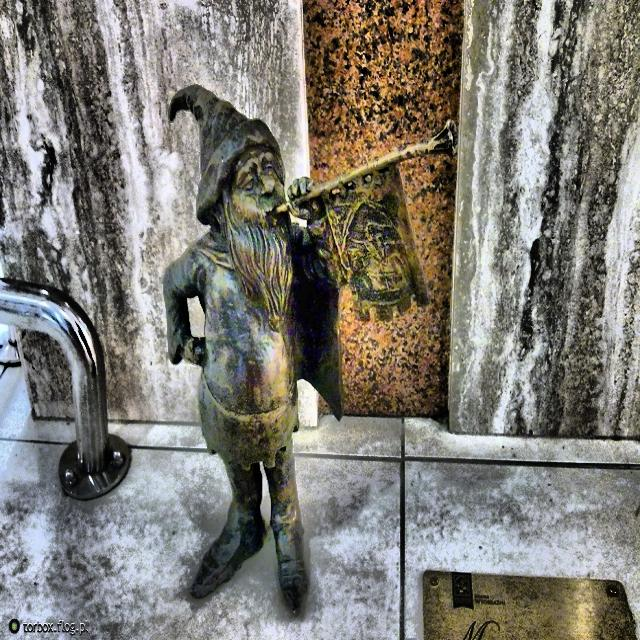Trabibrzuch: (164, 86, 456, 613)
